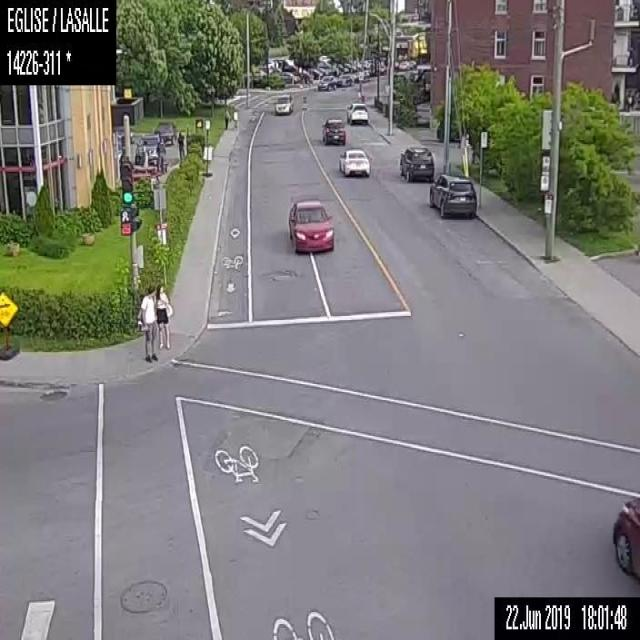pedestrian: (136, 282, 156, 362), (153, 283, 173, 350), (138, 139, 148, 168), (154, 137, 162, 171), (177, 129, 184, 160), (223, 105, 228, 128), (232, 107, 237, 128)
vehicle: (286, 191, 334, 256), (611, 495, 639, 585), (428, 170, 477, 219), (398, 144, 434, 181), (337, 147, 371, 177), (320, 116, 346, 146), (344, 100, 368, 124), (153, 120, 176, 142), (274, 92, 294, 116), (316, 73, 337, 91), (336, 71, 354, 87)
